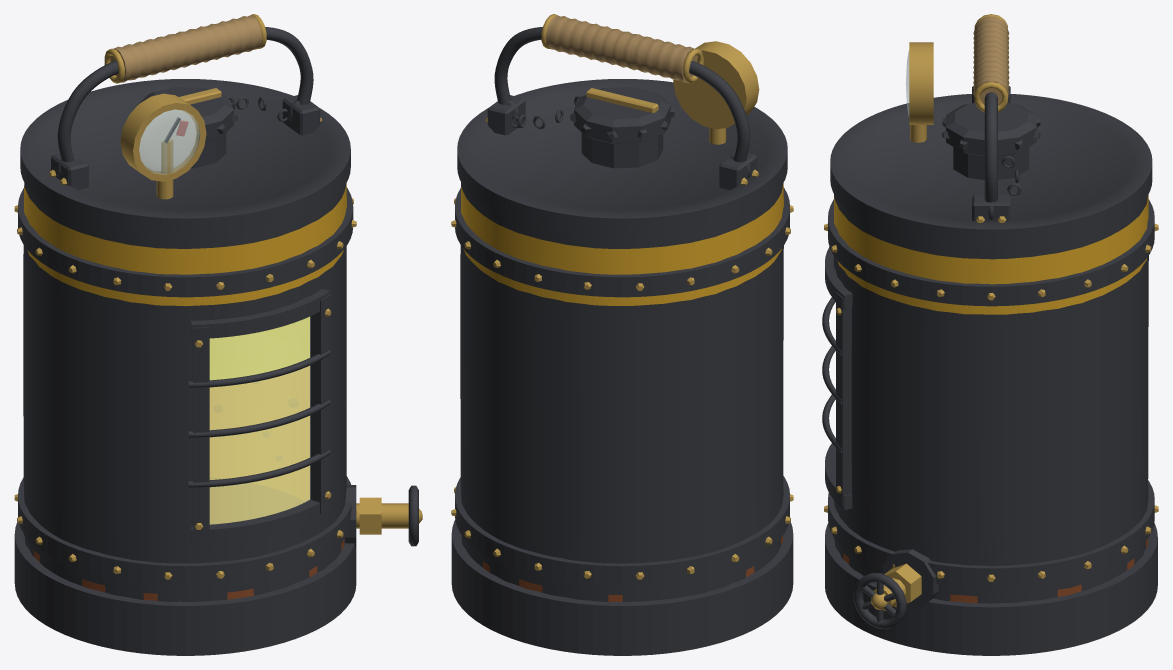
Rendered from carry_tank_oil.fbx.
3 renders of one model, left to right at view 1: azimuth 30°, elevation 25°; view 2: azimuth 150°, elevation 25°; view 3: azimuth 270°, elevation 25°, orthographic. The views are drawn at different scales.
Parts seen in each view (by area): view 1: Carry_Tank_Oil_Shell, Carry_Tank_Oil_Frame, Carry_Tank_Oil_Foot, Carry_Tank_Oil_Glass, Carry_Tank_Oil_Liquid, Carry_Tank_Oil_Handle, Carry_Tank_Oil_Fittings, Carry_Tank_Oil_GaugeFace, Carry_Tank_Oil_Cap, Carry_Tank_Oil_LidFittings; view 2: Carry_Tank_Oil_Shell, Carry_Tank_Oil_Foot, Carry_Tank_Oil_Frame, Carry_Tank_Oil_Handle, Carry_Tank_Oil_Cap, Carry_Tank_Oil_Fittings, Carry_Tank_Oil_LidFittings; view 3: Carry_Tank_Oil_Shell, Carry_Tank_Oil_Frame, Carry_Tank_Oil_Foot, Carry_Tank_Oil_Fittings, Carry_Tank_Oil_Cap, Carry_Tank_Oil_Handle, Carry_Tank_Oil_LidFittings.
Part boxes in pixels (bbox=[...]): Carry_Tank_Oil_Shell: bbox=[20, 79, 350, 601]; Carry_Tank_Oil_Frame: bbox=[14, 187, 356, 586]; Carry_Tank_Oil_Foot: bbox=[14, 522, 356, 655]; Carry_Tank_Oil_Glass: bbox=[209, 316, 310, 524]; Carry_Tank_Oil_Liquid: bbox=[209, 317, 309, 524]; Carry_Tank_Oil_Handle: bbox=[56, 14, 313, 177]; Carry_Tank_Oil_Fittings: bbox=[120, 93, 422, 546]; Carry_Tank_Oil_GaugeFace: bbox=[139, 109, 199, 174]; Carry_Tank_Oil_Cap: bbox=[137, 86, 287, 168]; Carry_Tank_Oil_LidFittings: bbox=[49, 95, 321, 189]; Carry_Tank_Oil_Shell: bbox=[457, 79, 787, 601]; Carry_Tank_Oil_Foot: bbox=[451, 520, 793, 655]; Carry_Tank_Oil_Frame: bbox=[451, 187, 793, 586]; Carry_Tank_Oil_Handle: bbox=[494, 14, 751, 177]; Carry_Tank_Oil_Cap: bbox=[511, 86, 674, 168]; Carry_Tank_Oil_Fittings: bbox=[673, 41, 759, 144]; Carry_Tank_Oil_LidFittings: bbox=[486, 95, 758, 189]; Carry_Tank_Oil_Shell: bbox=[830, 94, 1152, 603]; Carry_Tank_Oil_Frame: bbox=[822, 199, 1158, 587]; Carry_Tank_Oil_Foot: bbox=[825, 523, 1157, 655]; Carry_Tank_Oil_Fittings: bbox=[853, 42, 938, 629]; Carry_Tank_Oil_Cap: bbox=[942, 103, 1040, 196]; Carry_Tank_Oil_Handle: bbox=[973, 14, 1009, 219]; Carry_Tank_Oil_LidFittings: bbox=[972, 86, 1010, 222].
Size of the model in its own units: 49.13 by 77.25 by 43.87.
